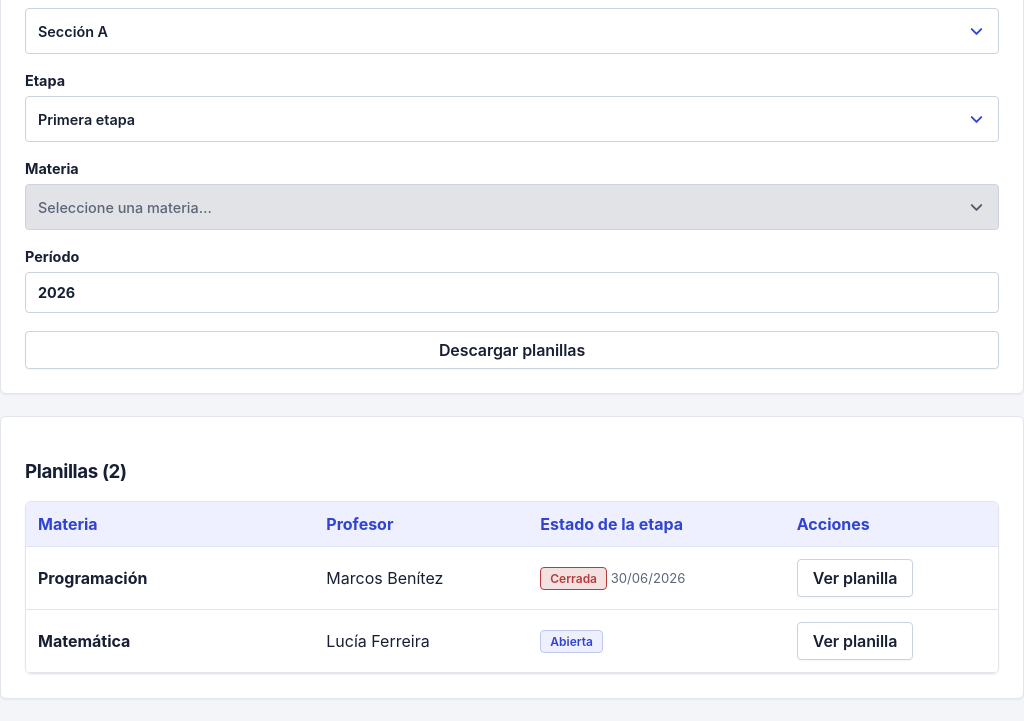
Test: PlanillaDetalleView › el detalle es de sólo lectura: notas en texto plano, sin inputs ni guardado
(page scrolled)
Click the button "Ver planilla" in the row of "Programación": (855, 578) 797,559 -> 913,597
(page scrolled)
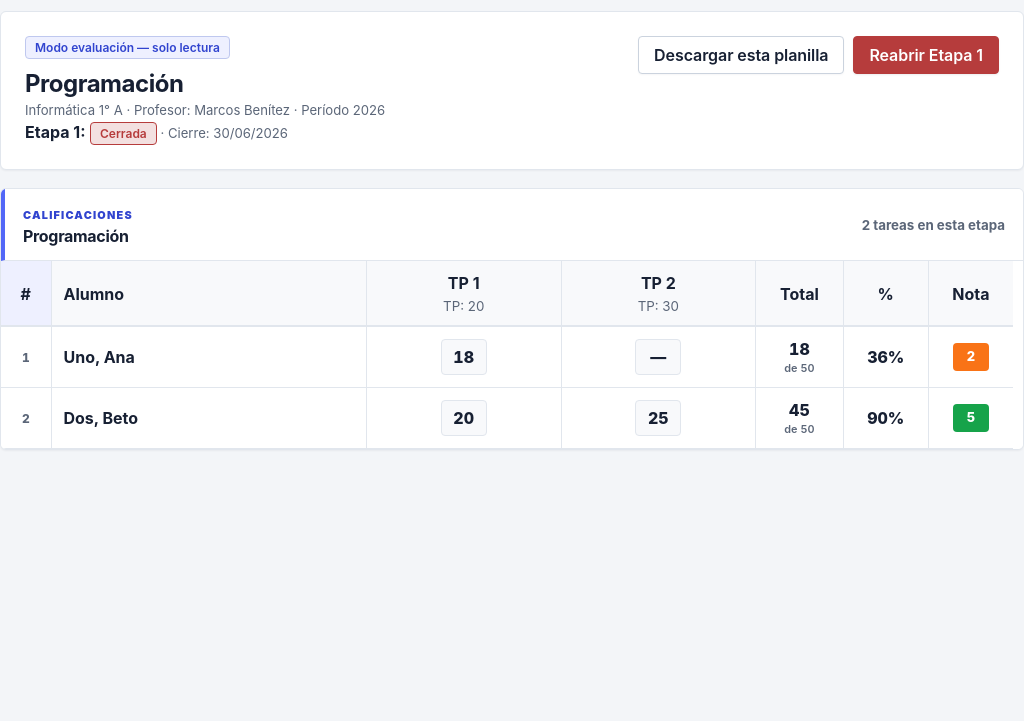
expect the text "Modo evaluación — solo lectura" is shown: met, box 25,36 -> 230,59
expect the column heading "Uno, Ana" is shown: met, box 51,327 -> 366,388
expect the cell named "Uno, Ana, TP 1: 18 puntos" reads "18": met, box 453,347 -> 474,367
